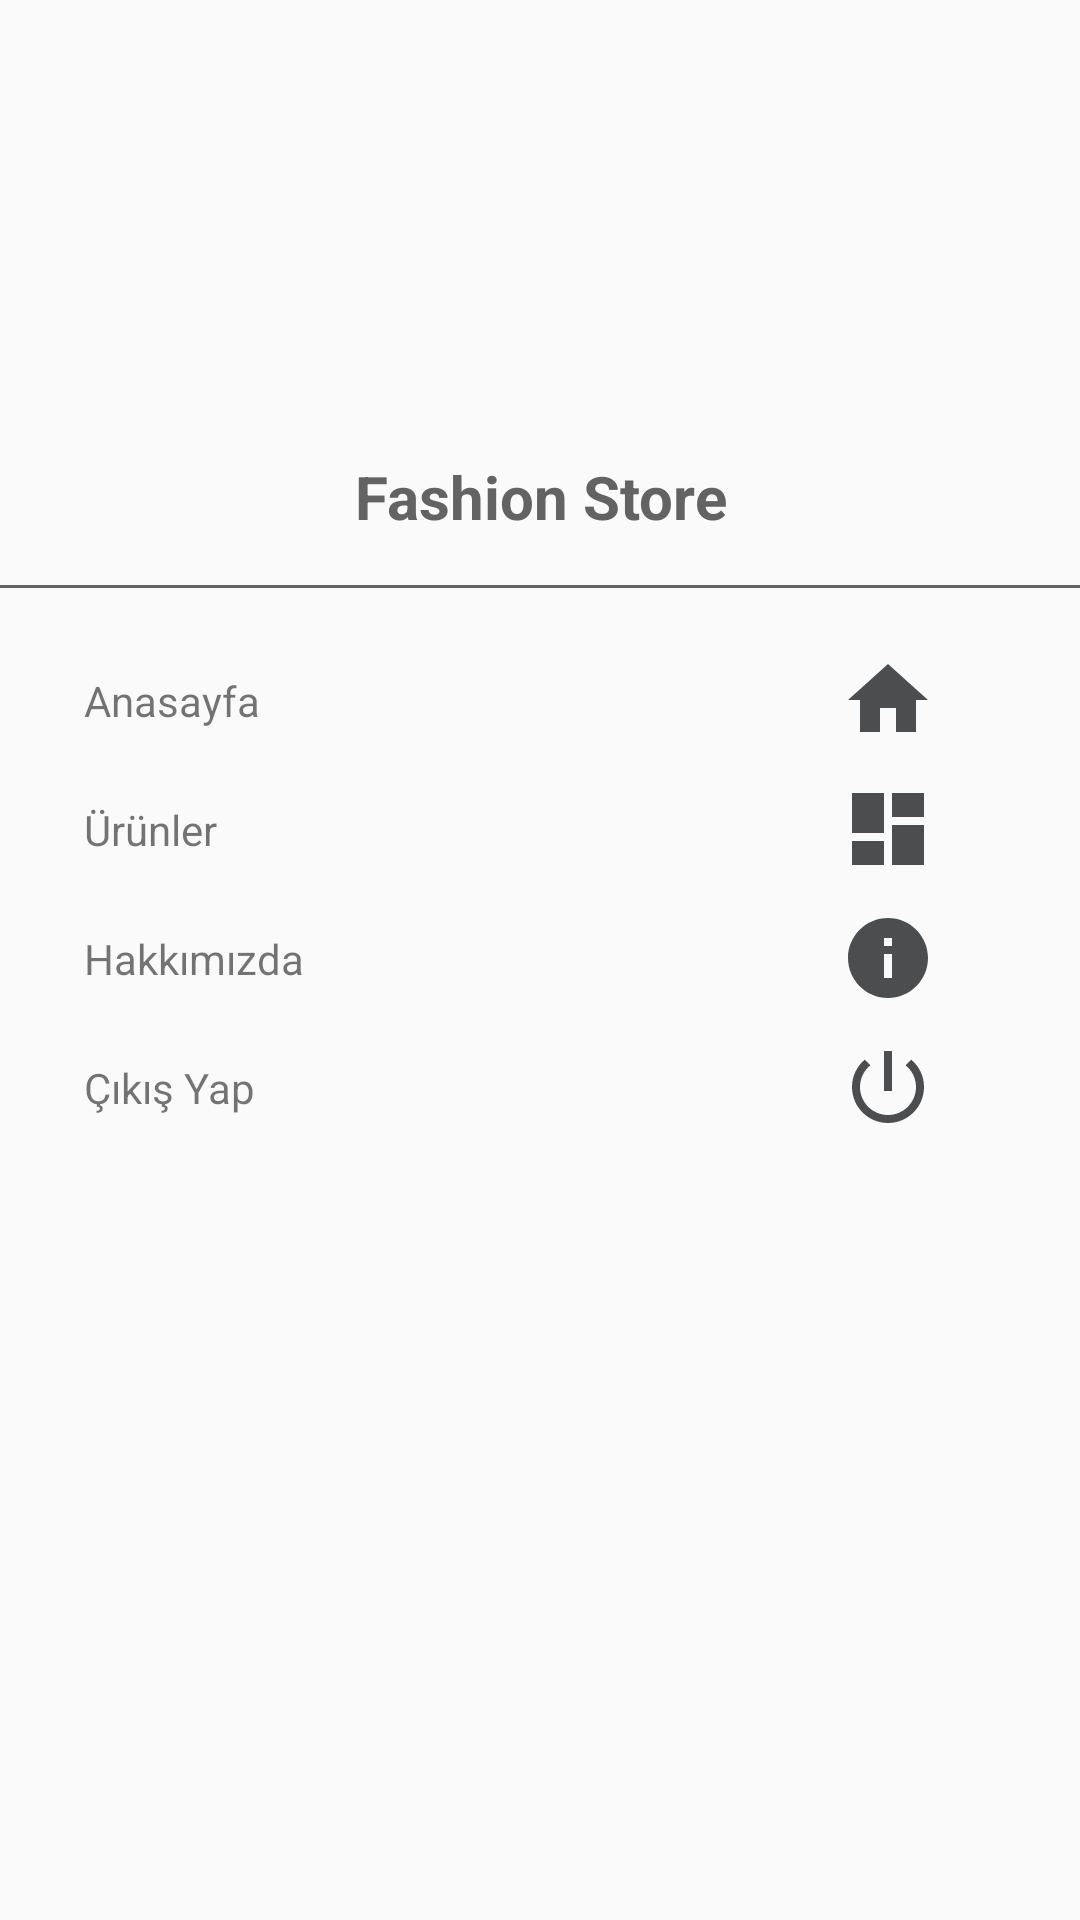

Icon bounding boxes for this 1080 x 1920 phone screenshot, format (x1, y1, x2, y2):
dashboard: (852, 793, 924, 865)
home: (848, 664, 928, 732)
info: (848, 918, 928, 998)
power settings: (852, 1051, 924, 1123)
